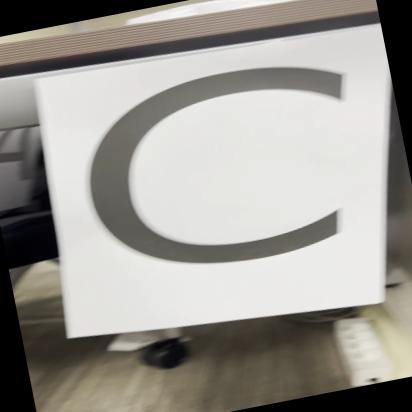seat: (50, 25, 396, 352)
